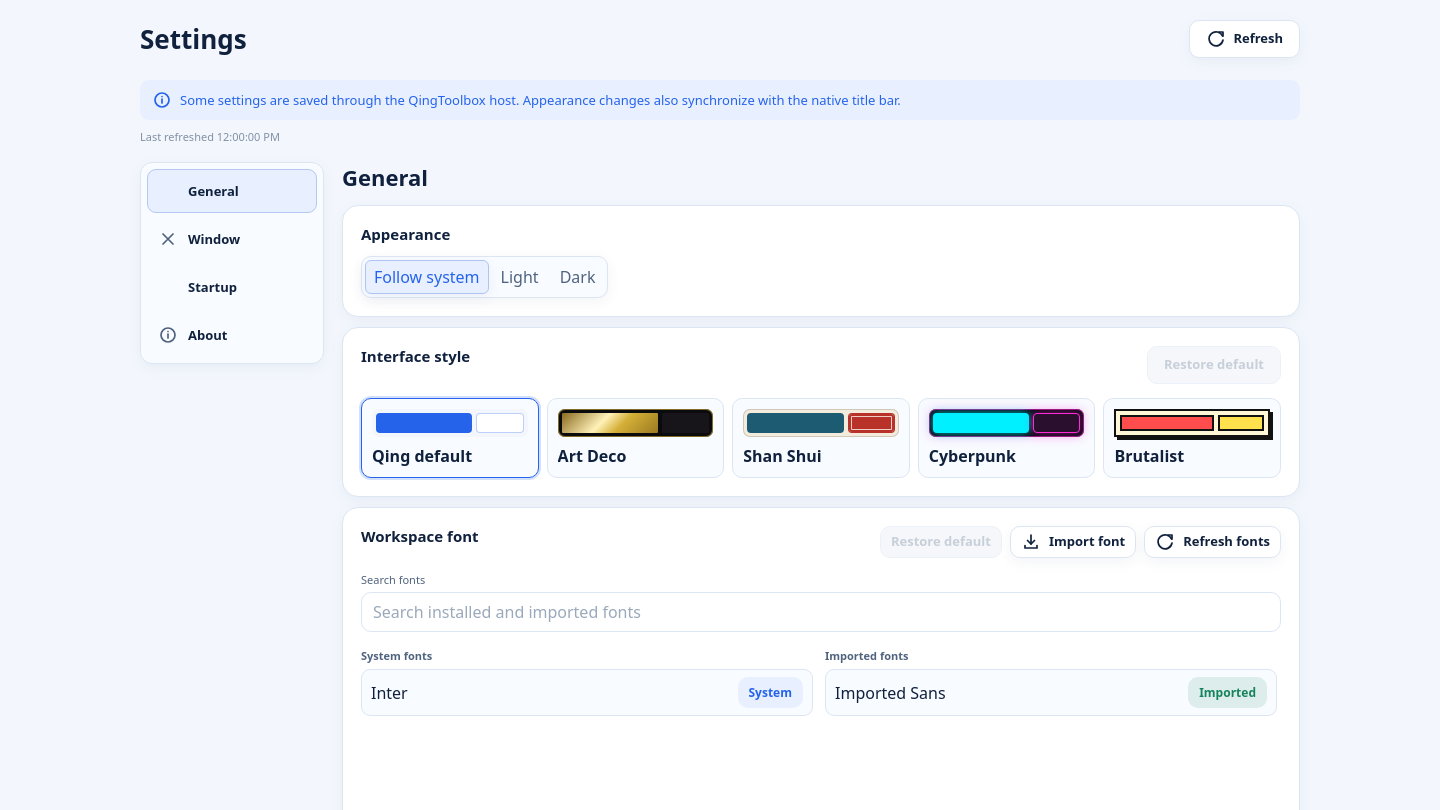
Test: SettingsPage information architecture › shows three close behavior radios in Window
Click the button "Window": (232, 239) [147,217,317,261]
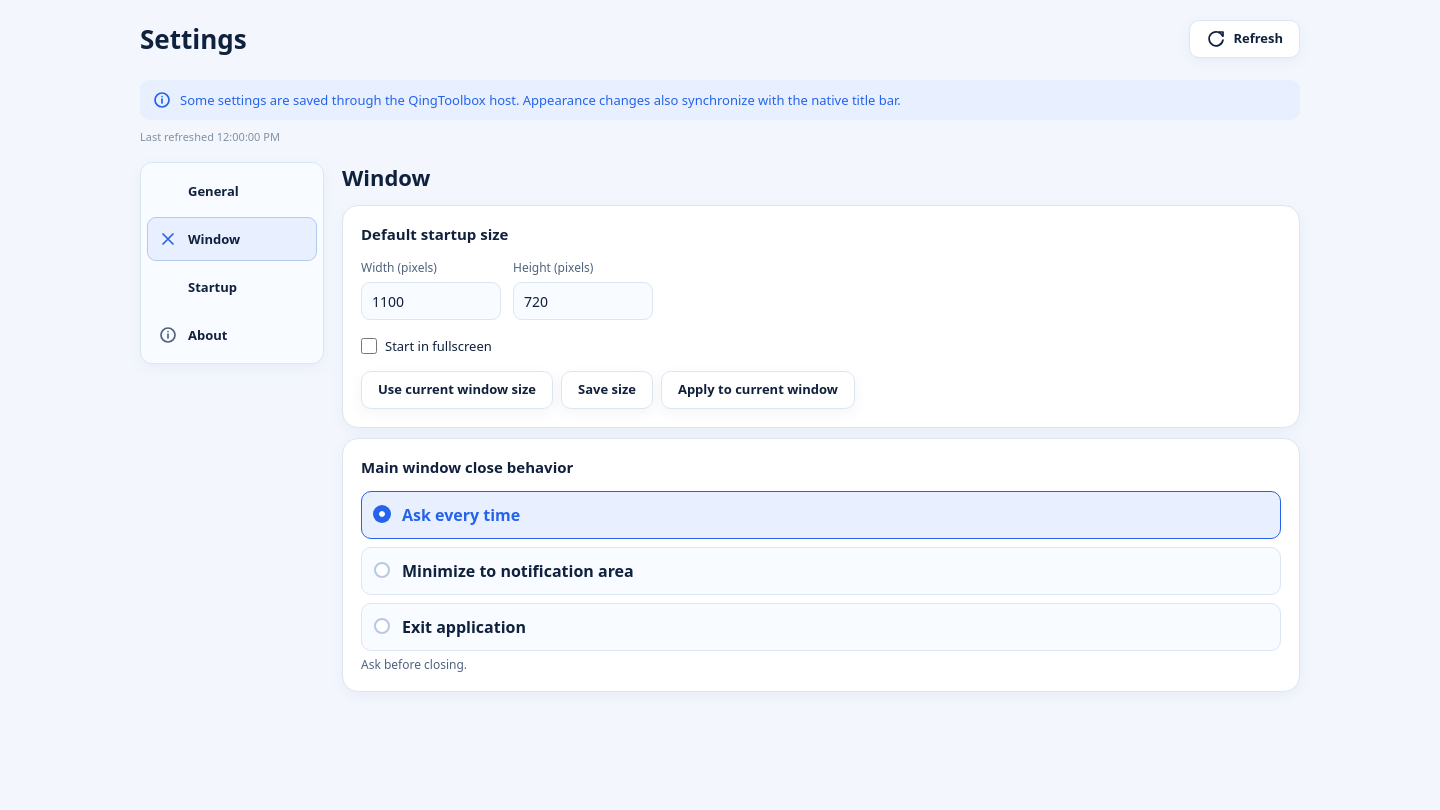
Check: the number of radio buttons is 3, box [361,491,1281,539]; [361,547,1281,595]; [361,603,1281,651]
